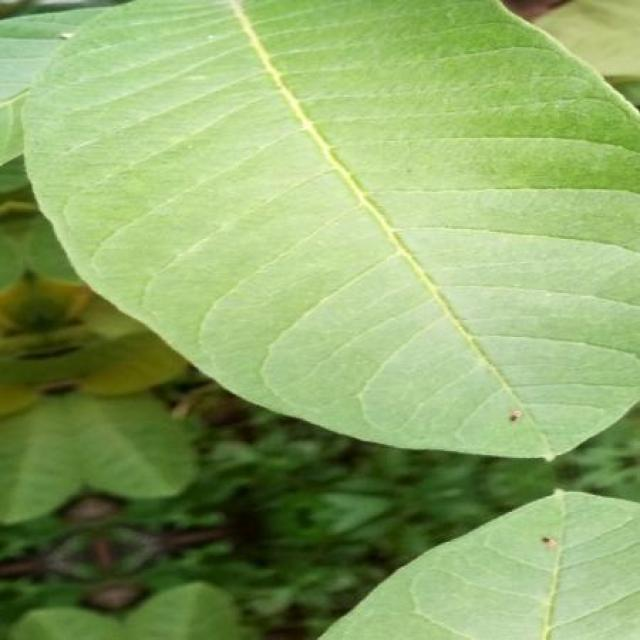Disease Free: (10, 0, 640, 458), (321, 491, 640, 639)
